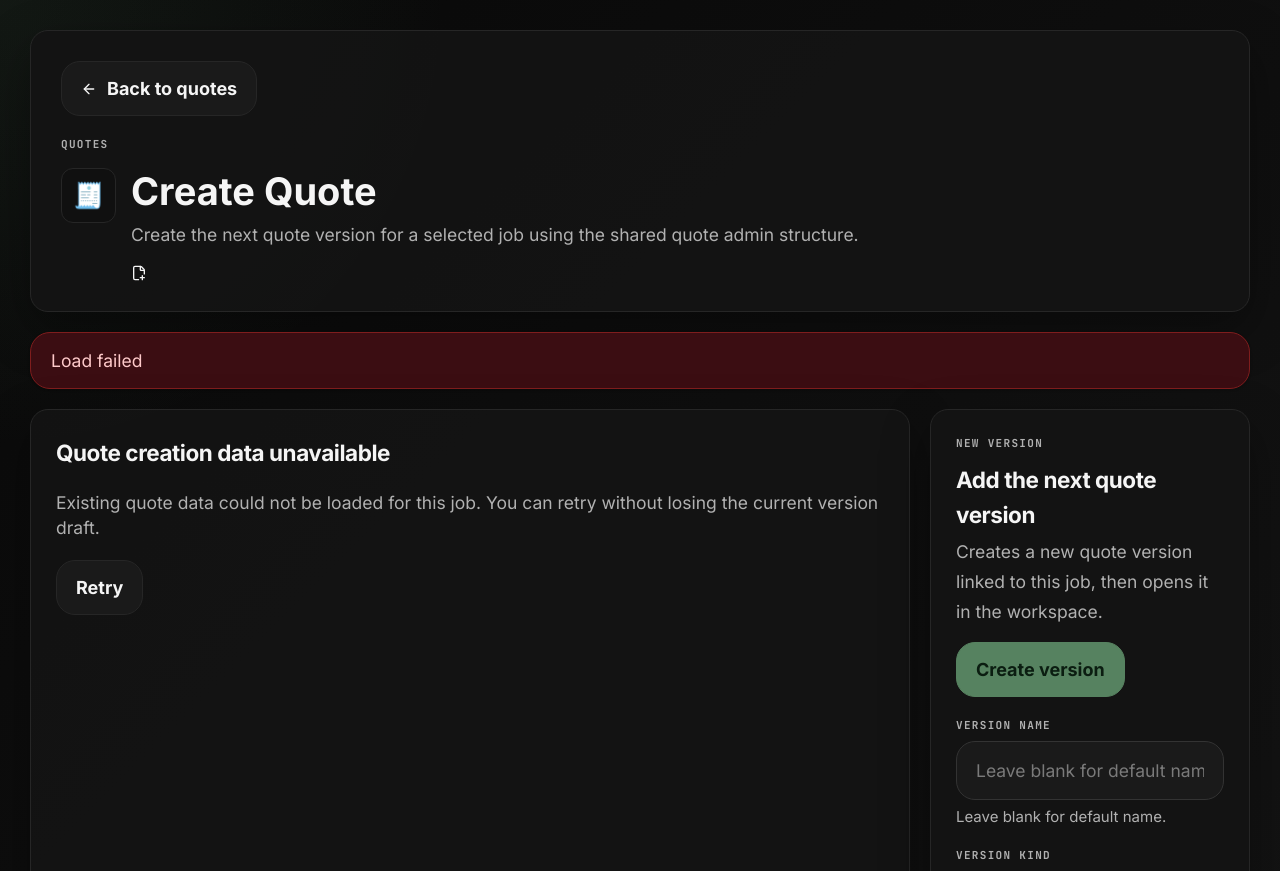
Test: QuoteCreatePage › shows the load error and retries quote creation data loading
The image size is (1280, 871).
expect the text "Load failed" is shown: met, box x1=51 y1=348 x2=142 y2=373
Click the button "Retry".
click(100, 588)  # box x1=56 y1=560 x2=143 y2=615
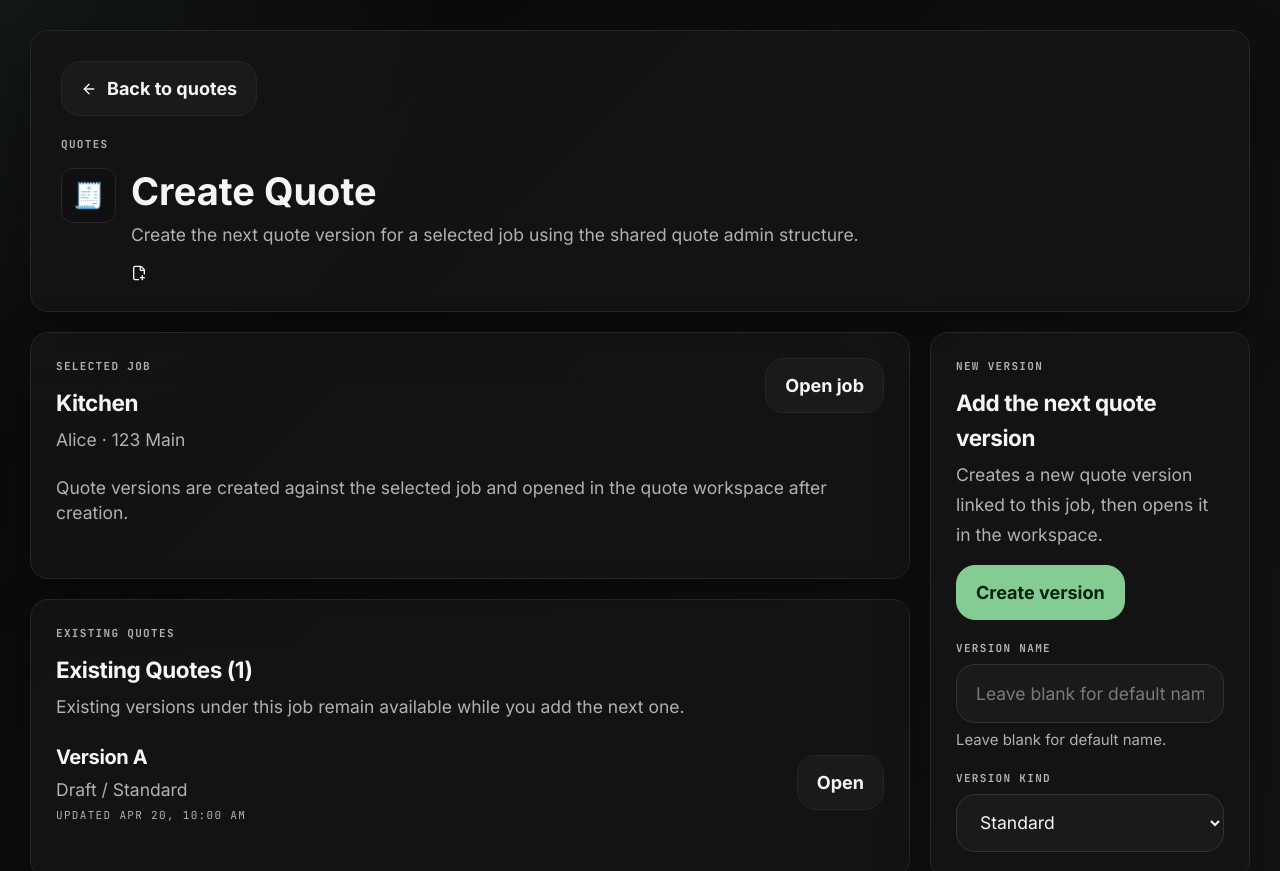
expect the heading "Existing Quotes (1)" is shown: met, box x1=56 y1=652 x2=252 y2=687
